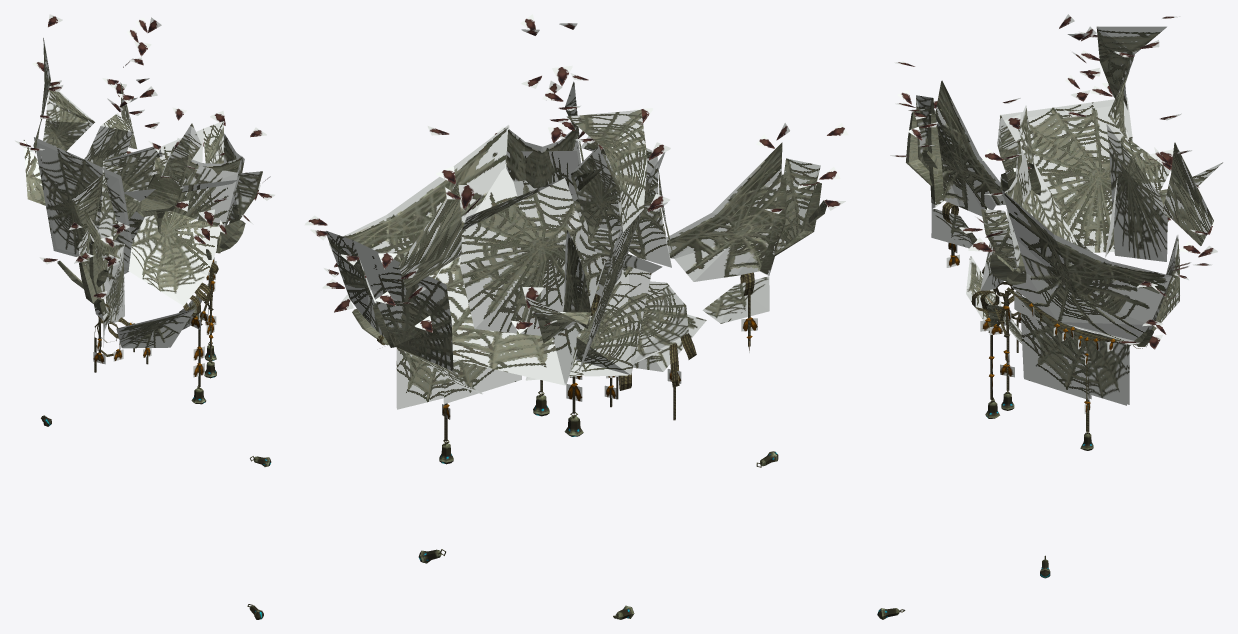
Rendered from spider_tree_01_webs.fbx.
The picture shows the model from 3 angles, left to right: view 1: azimuth 30°, elevation 25°; view 2: azimuth 150°, elevation 25°; view 3: azimuth 270°, elevation 25°; orthographic projection. The views are drawn at different scales.
Parts seen in each view (by area): view 1: obj0.671; view 2: obj0.671; view 3: obj0.671.
Boxes of the visible parts, x1,y1,x2,y2 form: obj0.671: [15, 14, 274, 619]; obj0.671: [304, 14, 848, 619]; obj0.671: [877, 14, 1223, 619].
Bounding box in the file's own units: 14.9 × 24.1 × 13.05.
